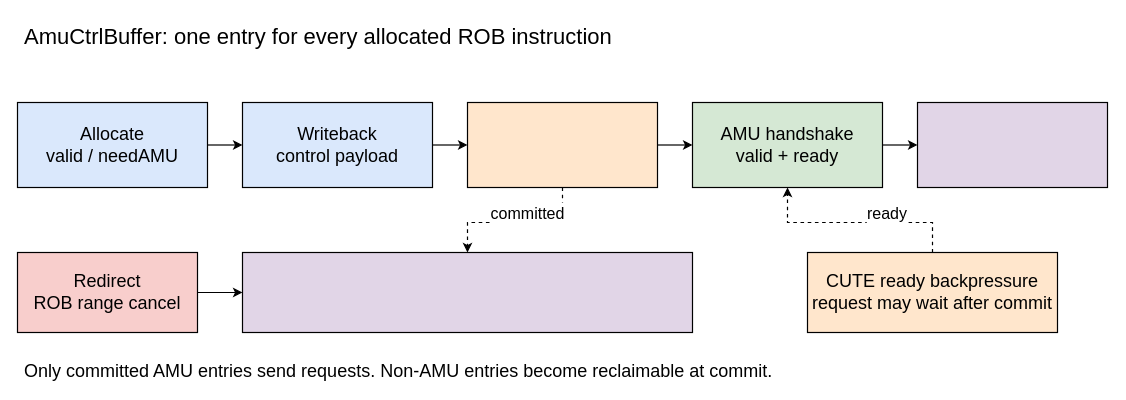
The diagram is 1126 pixels wide and 400 high, and some of its shapes have lost their labels. Each missing label, with the centre of its shape:
Entry: valid / needAMU / writebacked committed / amuCtrl / canDeq: the point at 467,292
Head-prefix reclaim canDeq: the point at 1012,144
ROB commit committed: the point at 562,144
